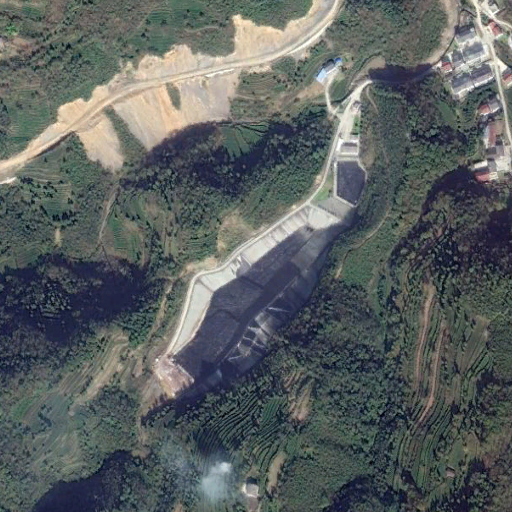lf: (169, 204, 351, 380)
